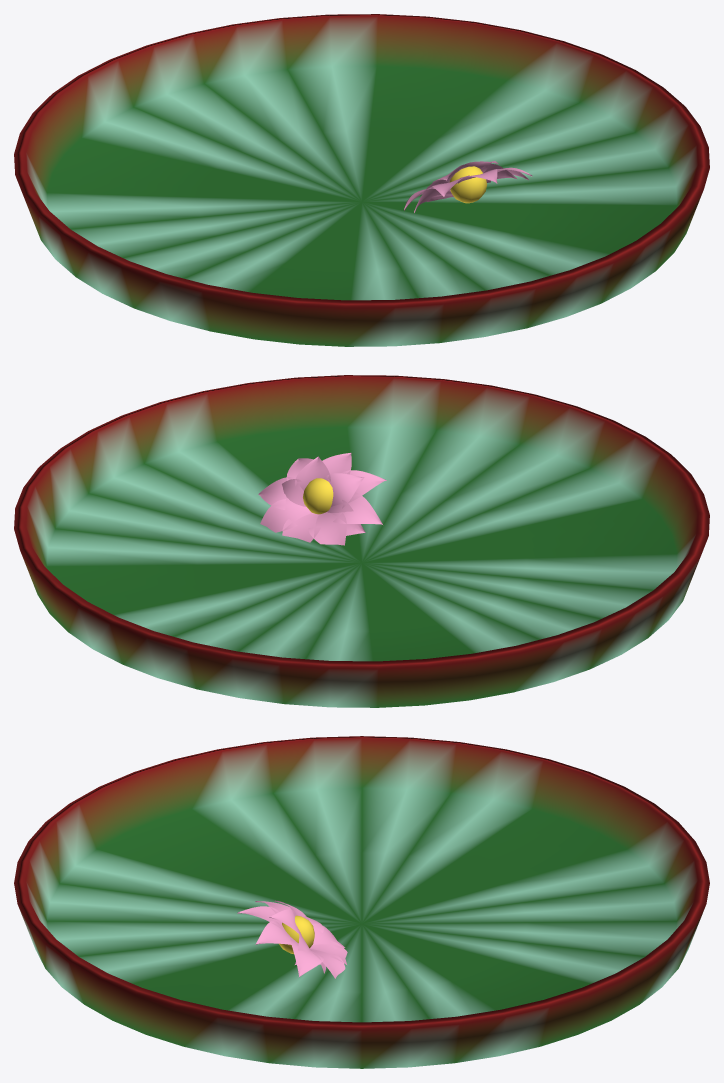
Rendered from water-lily.glb.
The picture shows the model from 3 angles, top to bottom: view 1: azimuth 30°, elevation 25°; view 2: azimuth 150°, elevation 25°; view 3: azimuth 270°, elevation 25°; orthographic projection.
Parts seen in each view (by area): view 1: Pad, FlowerCore; view 2: Pad, Petal_0_5, Petal_0_3, FlowerCore, Petal_0_6, Petal_1_5, Petal_0_4, Petal_1_0, Petal_0_2; view 3: Pad, FlowerCore, Petal_0_1, Petal_0_2.
Part boxes in pixels (bbox=[...]): Pad: bbox=[14, 14, 709, 346]; FlowerCore: bbox=[449, 166, 487, 203]; Pad: bbox=[14, 375, 709, 707]; Petal_0_5: bbox=[308, 512, 346, 545]; Petal_0_3: bbox=[260, 499, 314, 532]; FlowerCore: bbox=[303, 478, 333, 514]; Petal_0_6: bbox=[329, 492, 382, 524]; Petal_1_5: bbox=[323, 473, 364, 508]; Petal_0_4: bbox=[282, 513, 321, 542]; Petal_1_0: bbox=[295, 456, 330, 490]; Petal_0_2: bbox=[258, 477, 300, 509]; Pad: bbox=[14, 736, 709, 1068]; FlowerCore: bbox=[279, 915, 314, 953]; Petal_0_1: bbox=[255, 921, 298, 945]; Petal_0_2: bbox=[290, 938, 323, 977].
Bounding box in the file's own units: 2.32 × 0.2943 × 2.32.
